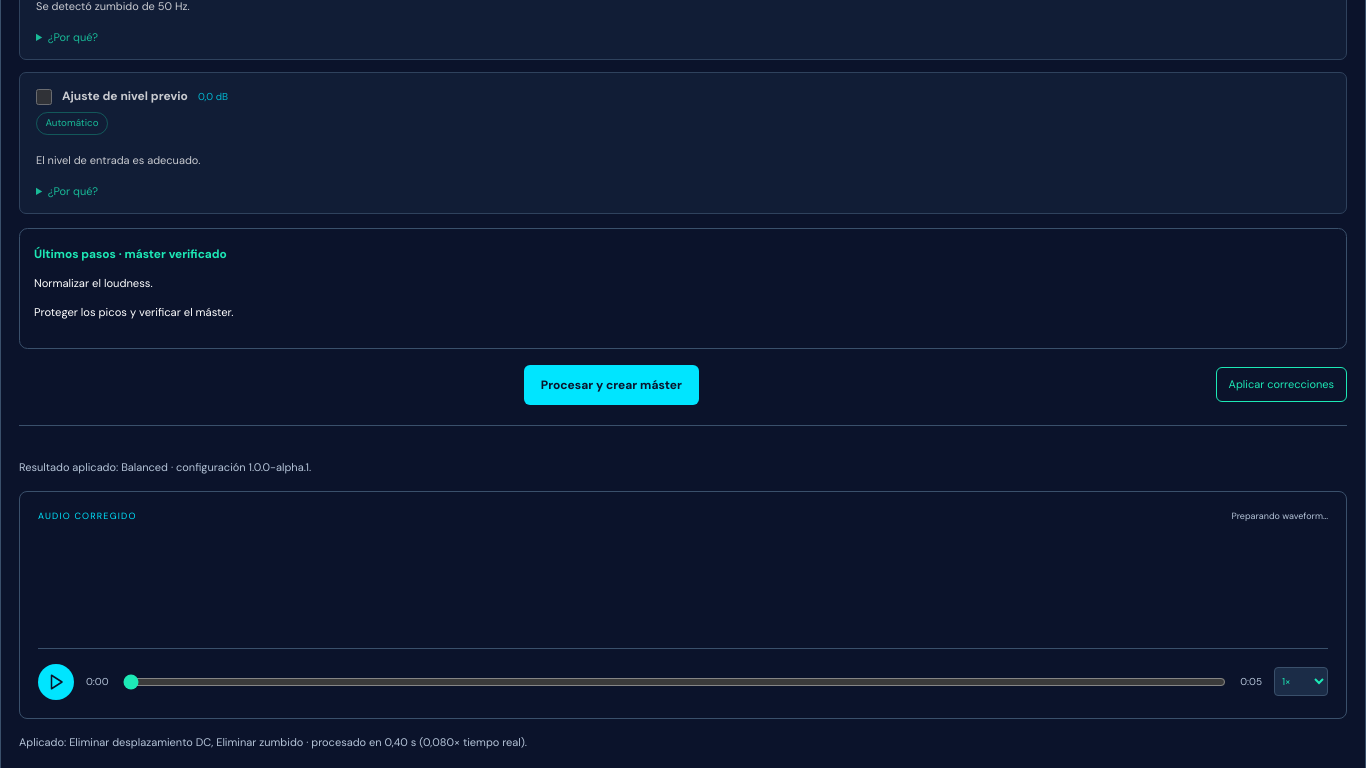
Scenario: QC failure recovers the corrections without offering an unverified download
(page scrolled)
Click the button "Procesar y crear máster" at (611, 384), box [524,364,699,404]
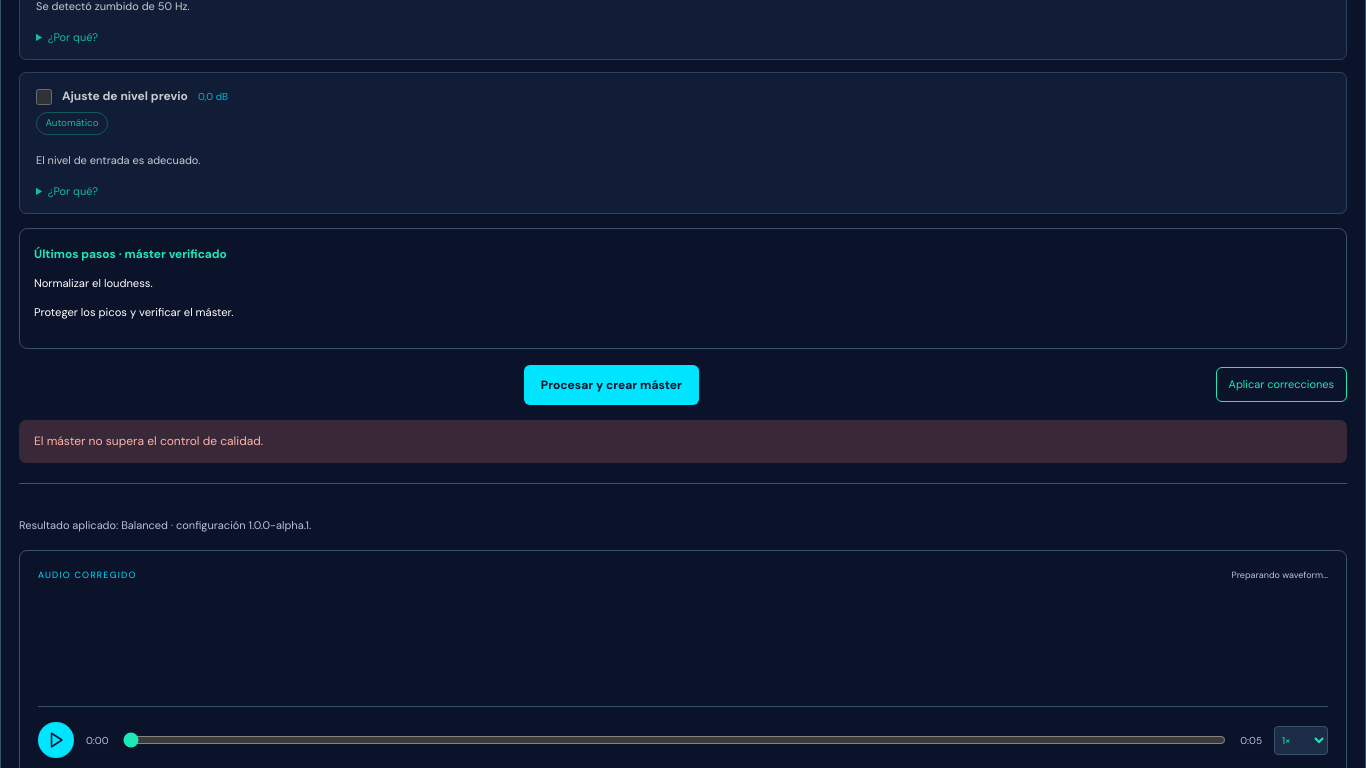
Expected: the text "Resultado aplicado: Balanced · configuración 1.0.0-alpha.1." is shown, [19,518,311,532]
Now the text "El máster no supera el control de calidad." is shown, box [19,420,1347,463]
